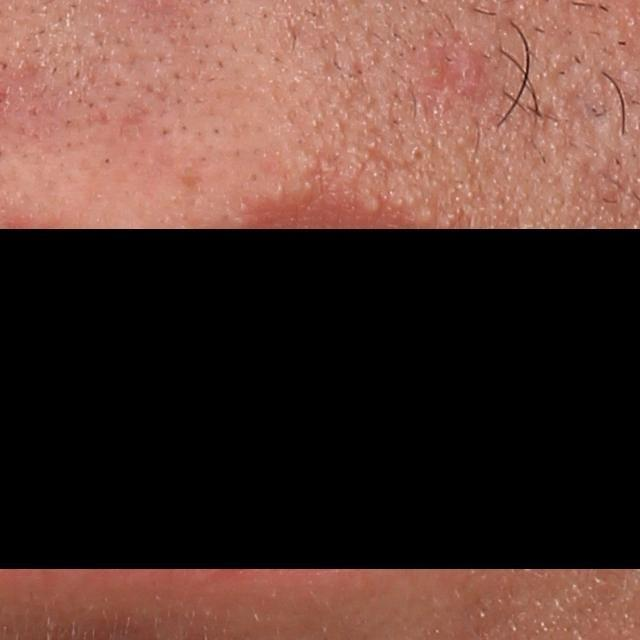comedo: (407, 142, 429, 165)
papule: (447, 54, 483, 89)
